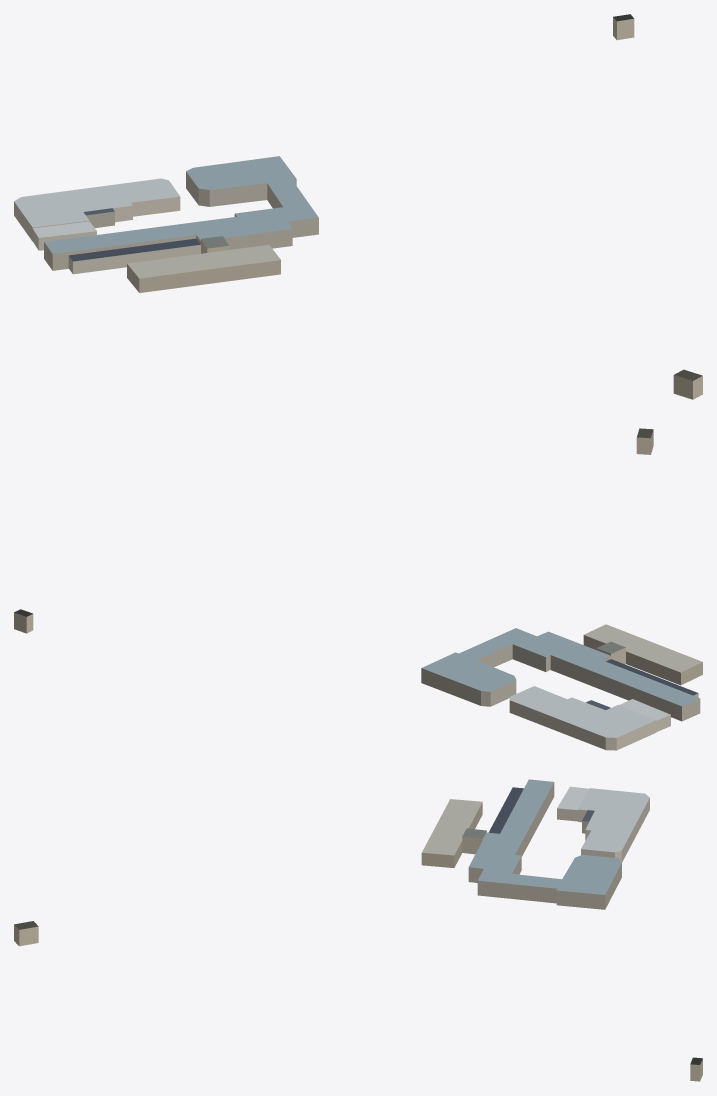
The picture shows the model from 3 angles, top to bottom: view 1: azimuth 30°, elevation 25°; view 2: azimuth 150°, elevation 25°; view 3: azimuth 270°, elevation 25°; orthographic projection. The views are drawn at different scales.
Parts seen in each view (by area): view 1: tuile; view 2: tuile; view 3: tuile.
Boxes of the visible parts, left/top/right/bottom form: tuile: left=14, top=14, right=702, bottom=399; tuile: left=14, top=428, right=702, bottom=750; tuile: left=14, top=779, right=702, bottom=1081.
Size of the model in its own units: 182 by 5.28 by 184.
